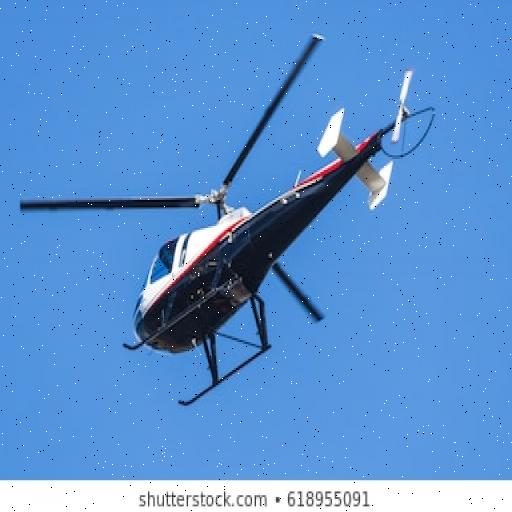helicopter: (20, 35, 420, 407)
